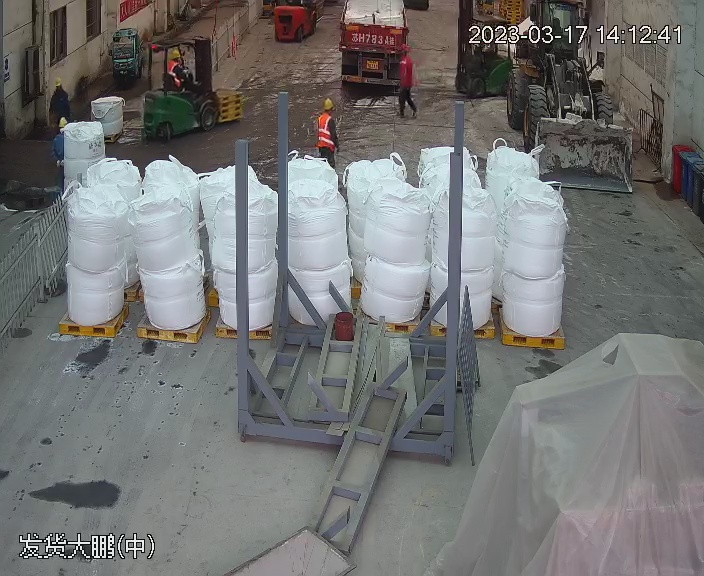head: (315, 98, 338, 127), (168, 48, 189, 72), (399, 44, 414, 70), (52, 79, 68, 99)
helmet: (322, 98, 334, 110), (169, 48, 182, 59), (401, 43, 411, 54), (55, 79, 63, 86)
people: (396, 44, 420, 118), (315, 97, 340, 165), (50, 80, 73, 123)
truck: (333, 1, 420, 88)
